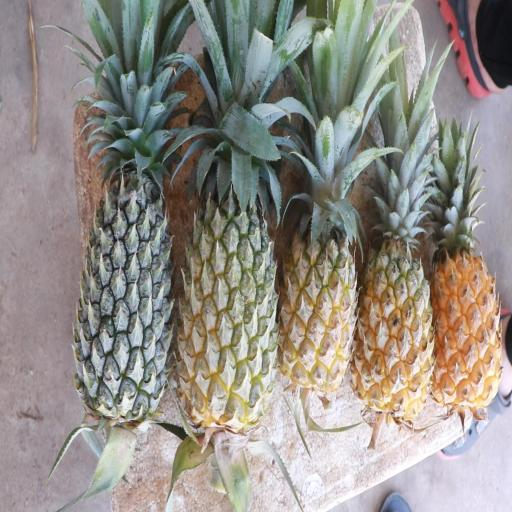------------------------------: (184, 142, 274, 418)
Pineapple - v8 v1: (282, 163, 358, 387), (360, 198, 434, 406), (432, 197, 503, 403)
